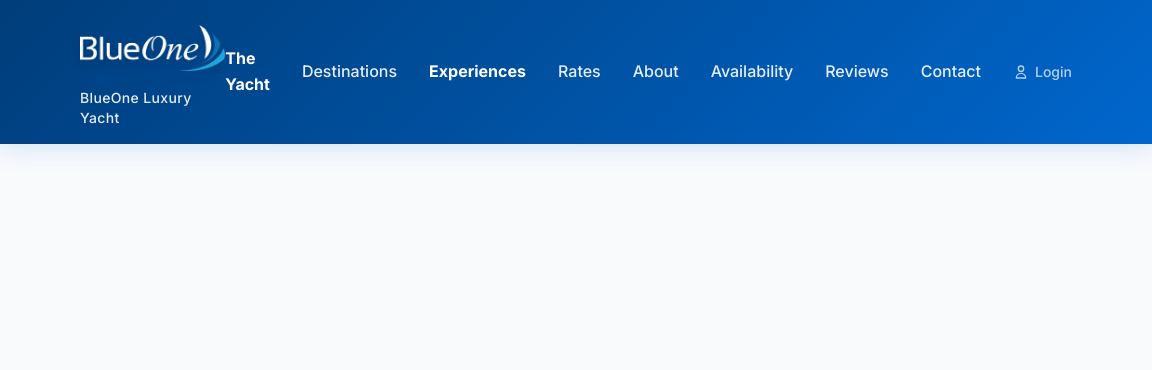
Test case: Navigation — Admin Login (unauthenticated) › clicking Login reveals "Admin Login" label
Click the button "Login" at [1042, 72], box [1013,62,1072,82]
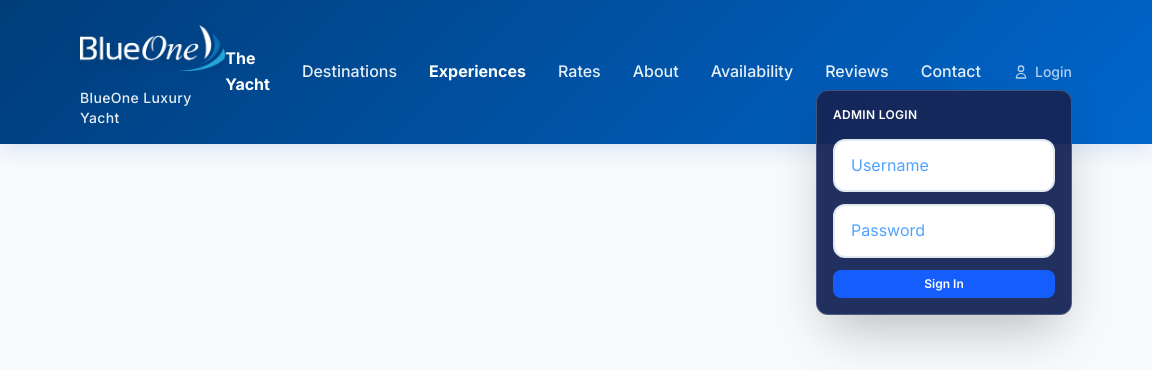
expect the text "Admin Login" is shown: met, box [833,107,917,122]
